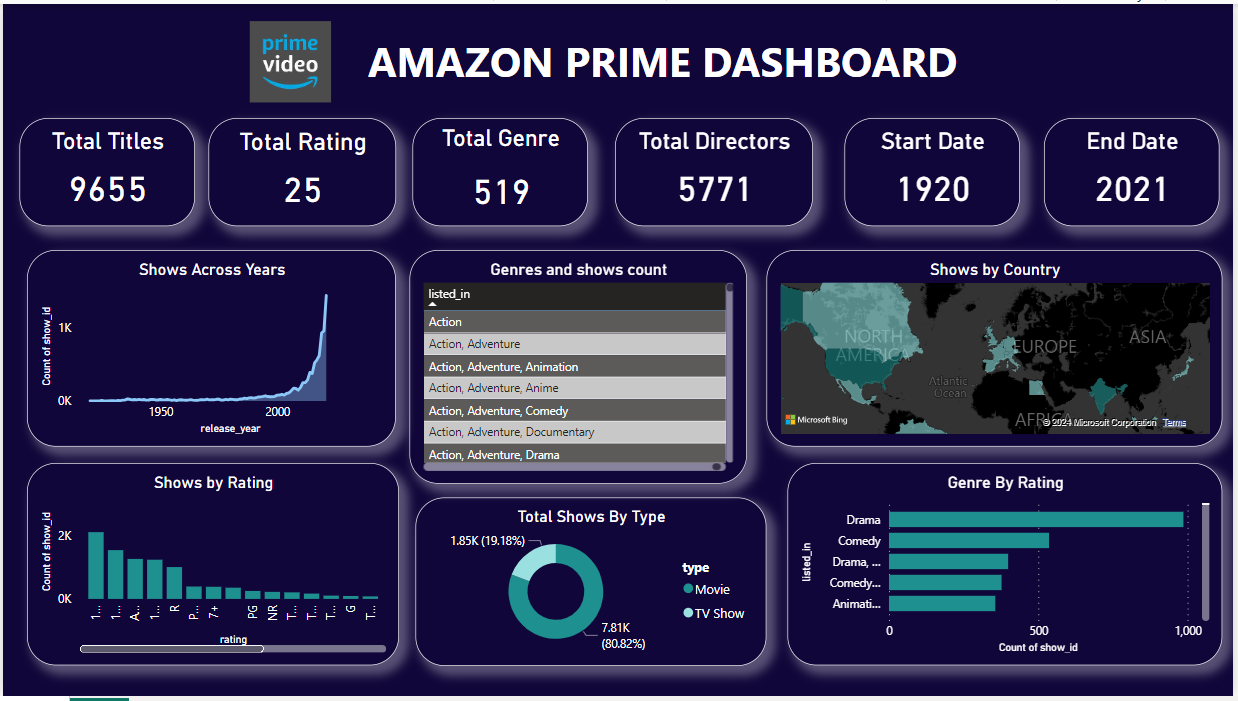

Layout of this report page (visuals, bound fields, positions):
{"tool":"powerbi","page":{"name":"Page 1","canvas":[1280,720],"ordinal":0},"visuals":[{"type":"filledMap","title":"Shows by Country","fields":{"Category":["amazon_prime_titles.country"]},"box":[795,256.1,474.8,204.6],"z":0},{"type":"donutChart","title":"Total Shows By Type","fields":{"Category":["amazon_prime_titles.type"],"Y":["CountNonNull(amazon_prime_titles.show_id)"]},"box":[430,513.3,365,175],"z":1000},{"type":"areaChart","title":"Shows Across Years","fields":{"Category":["amazon_prime_titles.release_year"],"Y":["CountNonNull(amazon_prime_titles.show_id)"]},"box":[25,256.1,384.2,204.6],"z":2000},{"type":"clusteredColumnChart","title":"Shows by Rating","fields":{"Category":["amazon_prime_titles.rating"],"Y":["CountNonNull(amazon_prime_titles.show_id)"]},"box":[25,477.9,387.3,210.8],"z":3000},{"type":"clusteredBarChart","title":"Genre By Rating","fields":{"Category":["amazon_prime_titles.listed_in"],"Y":["CountNonNull(amazon_prime_titles.show_id)"]},"box":[816.8,477.9,452.9,210.8],"z":4000},{"type":"card","title":"Total Titles","fields":{"Values":["Count(amazon_prime_titles.title)"]},"box":[17.2,119.2,182.7,112.5],"z":5000},{"type":"card","title":"Total Rating","fields":{"Values":["Count(amazon_prime_titles.rating)"]},"box":[214,119.2,195.2,112.5],"z":6000},{"type":"card","title":"Total Genre","fields":{"Values":["Count(amazon_prime_titles.listed_in)"]},"box":[426.4,119.2,182.7,112.5],"z":7000},{"type":"card","title":"Total Directors","fields":{"Values":["Count(amazon_prime_titles.director)"]},"box":[637.2,119.2,206.2,112.5],"z":8000},{"type":"card","title":"Start Date","fields":{"Values":["Min(amazon_prime_titles.release_year)"]},"box":[876.2,119.2,182.7,112.5],"z":9000},{"type":"card","title":"End Date","fields":{"Values":["Max(amazon_prime_titles.release_year)"]},"box":[1083.9,119.2,182.7,112.5],"z":10000},{"type":"image","box":[174.9,13,248.3,95.3],"z":11000},{"type":"textbox","box":[374.8,25.5,643.5,73.4],"z":12000},{"type":"pivotTable","title":"Genres and shows count","fields":{"Rows":["amazon_prime_titles.listed_in"],"Values":["CountNonNull(amazon_prime_titles.show_id)"]},"box":[423.3,256.1,351.4,243.6],"z":13000}]}

Visuals, with their boxes in screenshot pixels (x1, y1, x2, y2), scaled from the page's 1280x720 canvas onto the 1238x701 screenshot:
"Shows by Country" filledMap: (x1=769, y1=249, x2=1228, y2=449)
"Total Shows By Type" donutChart: (x1=416, y1=500, x2=769, y2=670)
"Shows Across Years" areaChart: (x1=24, y1=249, x2=396, y2=449)
"Shows by Rating" clusteredColumnChart: (x1=24, y1=465, x2=399, y2=671)
"Genre By Rating" clusteredBarChart: (x1=790, y1=465, x2=1228, y2=671)
"Total Titles" card: (x1=17, y1=116, x2=193, y2=226)
"Total Rating" card: (x1=207, y1=116, x2=396, y2=226)
"Total Genre" card: (x1=412, y1=116, x2=589, y2=226)
"Total Directors" card: (x1=616, y1=116, x2=816, y2=226)
"Start Date" card: (x1=847, y1=116, x2=1024, y2=226)
"End Date" card: (x1=1048, y1=116, x2=1225, y2=226)
image: (x1=169, y1=13, x2=409, y2=105)
textbox: (x1=363, y1=25, x2=985, y2=96)
"Genres and shows count" pivotTable: (x1=409, y1=249, x2=749, y2=487)
